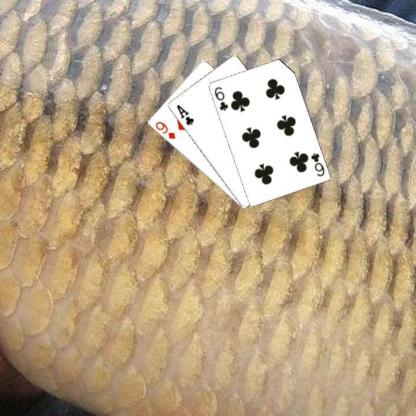6C: (211, 84, 230, 112), (308, 150, 325, 178)
9D: (153, 119, 176, 140)
AC: (174, 102, 195, 127)
